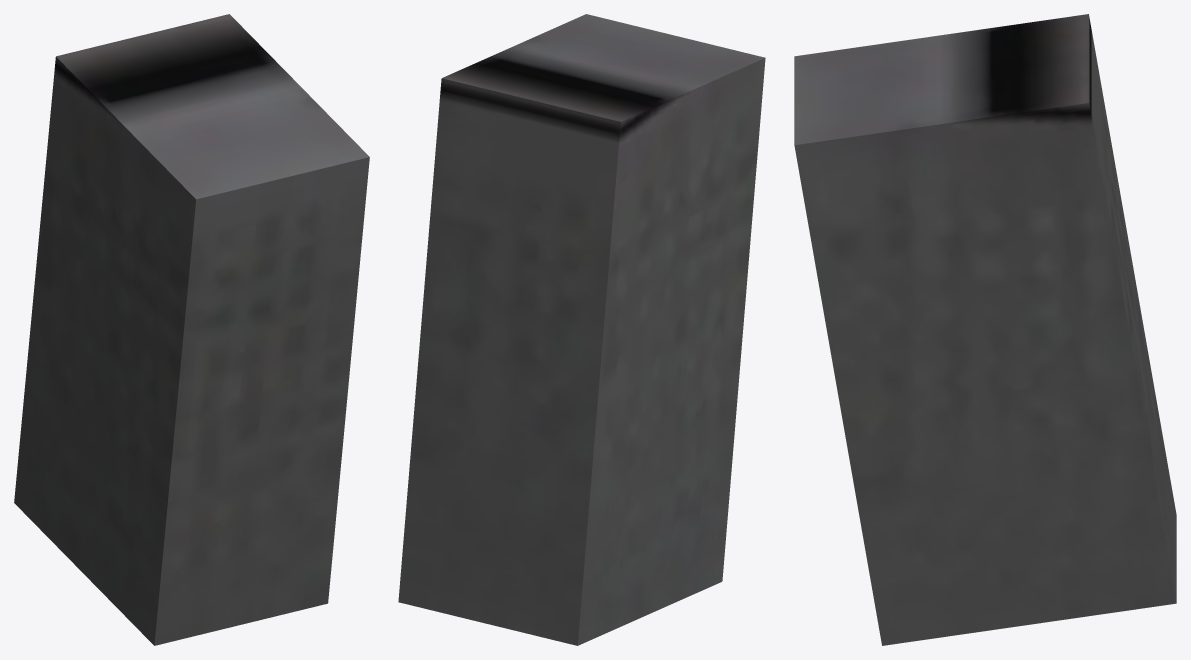
The model's file is frame__wheel_stub_0.glb.
3 views of the same model, side by side, from view 1: azimuth 30°, elevation 25°; view 2: azimuth 150°, elevation 25°; view 3: azimuth 270°, elevation 25° (orthographic). The views are drawn at different scales.
Parts seen in each view (by area): view 1: world; view 2: world; view 3: world.
Part boxes in pixels (left/top/right/bottom): world: left=14, top=14, right=369, bottom=645; world: left=398, top=14, right=765, bottom=645; world: left=794, top=14, right=1176, bottom=645.
Size of the model in its own units: 0.024 by 0.0683 by 0.0436.
Materials: 1 (1 with a texture image).
